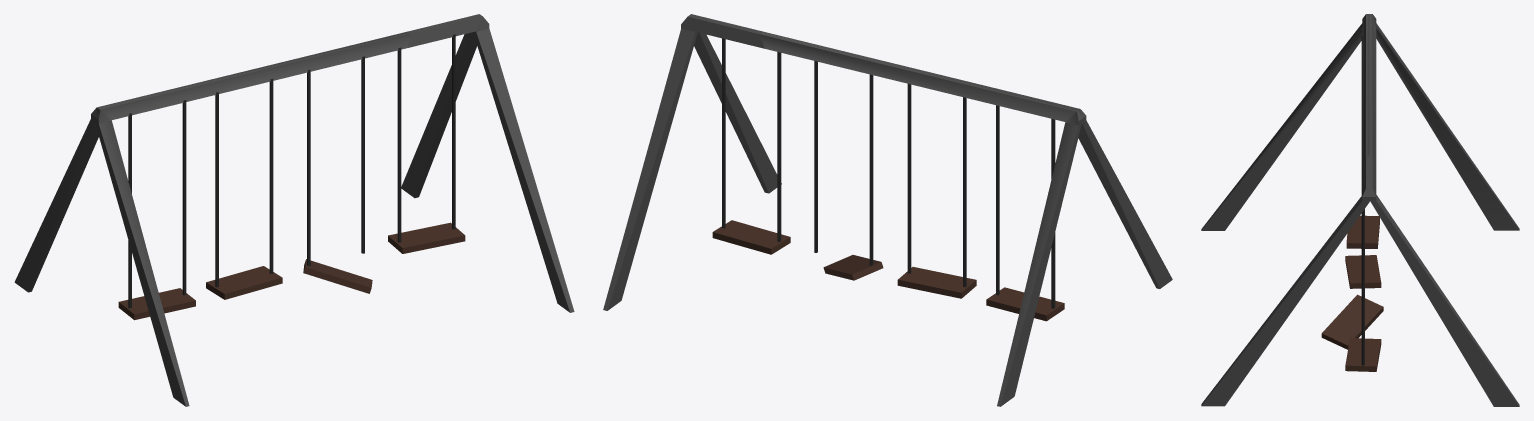
File: Columpio.fbx
The picture shows the model from 3 angles, left to right: view 1: azimuth 30°, elevation 25°; view 2: azimuth 150°, elevation 25°; view 3: azimuth 270°, elevation 25°; orthographic projection. The views are drawn at different scales.
Visible parts, largest first — view 1: pCube1.001, pCube1, pCube2, pCube4, pCube3, pCube5, pCylinder3, pCylinder2, pCylinder5, pCylinder7, pCylinder8, pCylinder1 (+2 smaller); view 2: pCube1.001, pCube1, pCube2, pCube4, pCube3, pCube5, pCylinder8, pCylinder2, pCylinder5, pCylinder7, pCylinder1, pCylinder6 (+2 smaller); view 3: pCube1.001, pCube1, pCube5, pCube2, pCube4, pCube3, pCylinder1.
Boxes of the visible parts, <box> form: pCube1.001: <box>14,31,411,406</box>; pCube1: <box>401,14,574,312</box>; pCube2: <box>388,222,465,253</box>; pCube4: <box>206,266,282,299</box>; pCube3: <box>118,288,195,320</box>; pCube5: <box>303,259,372,293</box>; pCylinder3: <box>182,100,186,295</box>; pCylinder2: <box>397,47,401,242</box>; pCylinder5: <box>269,79,273,273</box>; pCylinder7: <box>361,56,364,253</box>; pCylinder8: <box>307,69,310,266</box>; pCylinder1: <box>452,34,455,229</box>; pCube1.001: <box>760,32,1172,406</box>; pCube1: <box>603,14,781,310</box>; pCube2: <box>712,220,790,254</box>; pCube4: <box>897,267,976,298</box>; pCube3: <box>986,287,1064,321</box>; pCube5: <box>823,255,883,280</box>; pCylinder8: <box>869,74,873,265</box>; pCylinder2: <box>777,52,781,241</box>; pCylinder5: <box>907,84,911,273</box>; pCylinder7: <box>814,61,817,252</box>; pCylinder1: <box>722,38,725,228</box>; pCylinder6: <box>963,97,966,287</box>; pCube1.001: <box>1201,14,1519,230</box>; pCube1: <box>1201,155,1519,406</box>; pCube5: <box>1321,294,1383,349</box>; pCube2: <box>1345,338,1381,371</box>; pCube4: <box>1345,255,1381,288</box>; pCube3: <box>1346,215,1379,248</box>; pCylinder1: <box>1361,182,1364,365</box>.
Bounding box in the file's own units: 41.97 × 23.86 × 31.73.
